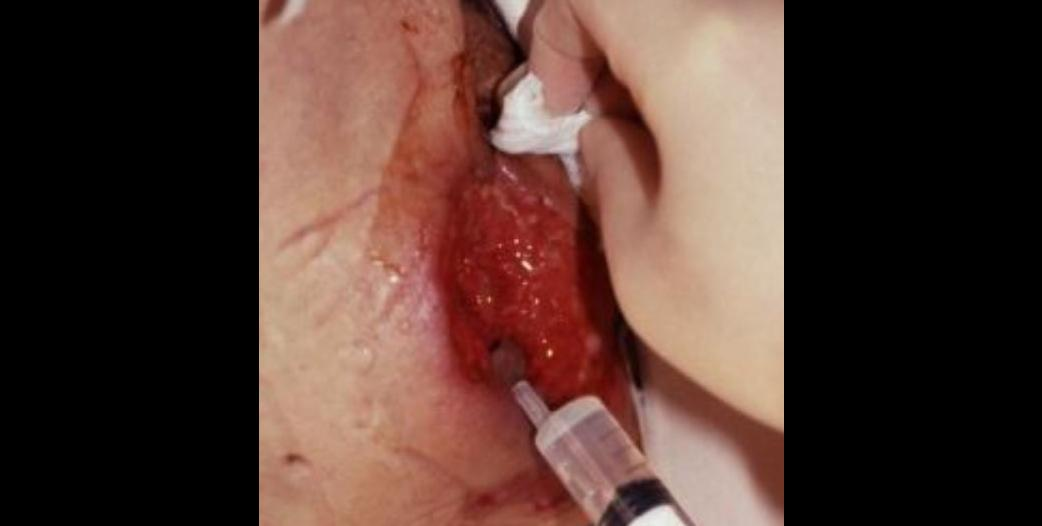Stage3: (376, 93, 627, 419)
